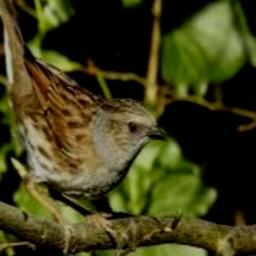Sparrow: (0, 0, 169, 256)
